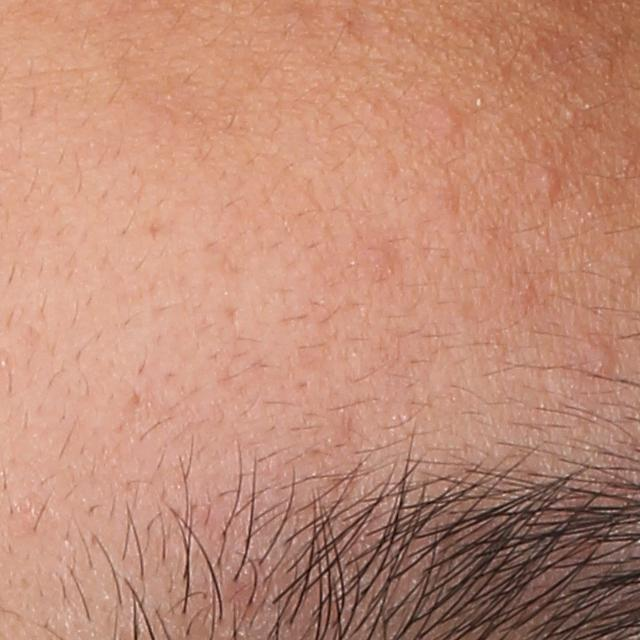comedo: (571, 329, 621, 383), (563, 106, 579, 125)
